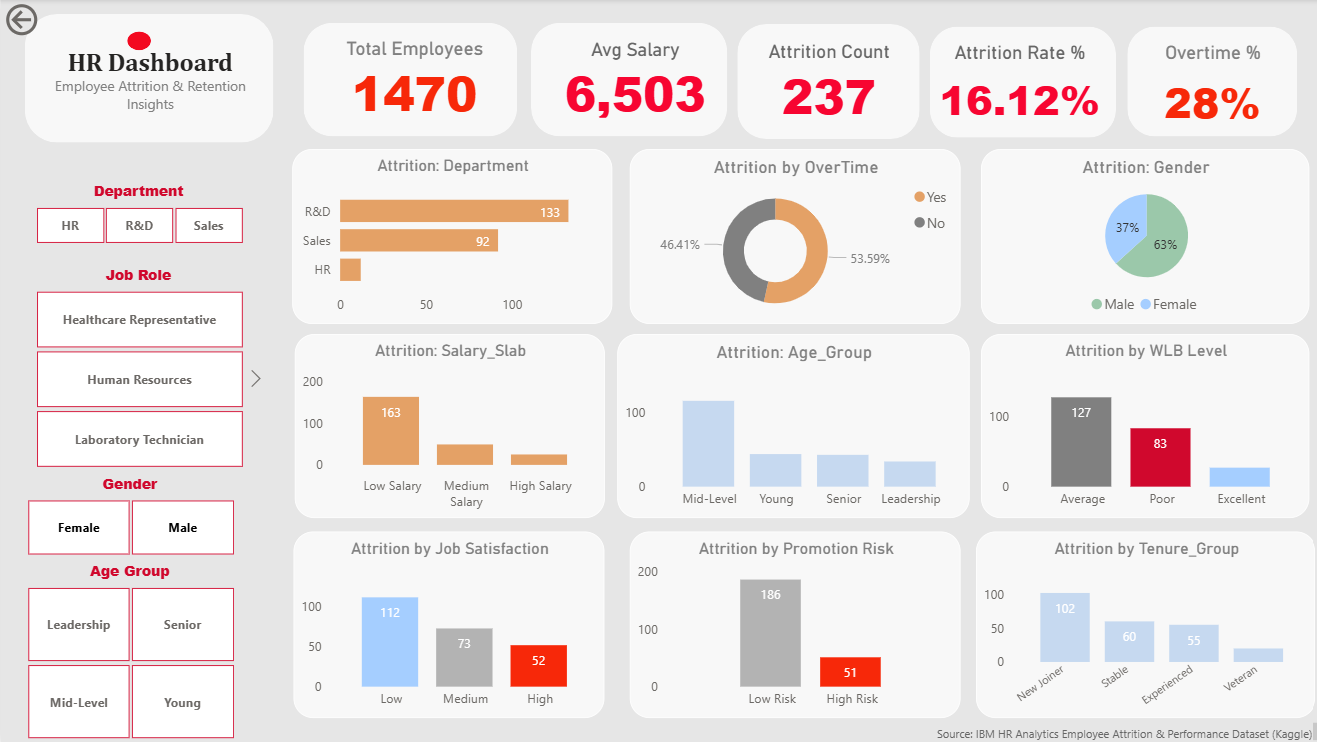

What the dashboard file says about the page in this screenshot:
{"tool":"powerbi","page":{"name":"Page 1","canvas":[1280,720],"ordinal":0},"visuals":[{"type":"shape","box":[22.9,14.5,240,124.2],"z":0},{"type":"shape","box":[121.8,31.4,22.9,18.1],"z":1000},{"type":"shape","box":[710.4,24.1,176.1,111],"z":2000},{"type":"shape","box":[896.1,26.5,179.7,107.3],"z":3000},{"type":"card","title":"Attrition Count","fields":{"Values":["HR_Analytics_Cleaned.Attrition Count"]},"box":[716.4,39.8,165.2,84.4],"z":4000},{"type":"card","title":"Attrition Rate %","fields":{"Values":["HR_Analytics_Cleaned.Attrition Rate %"]},"box":[896.1,41,173.7,91.7],"z":5000},{"type":"clusteredBarChart","title":"Attrition: Department","fields":{"Y":["HR_Analytics_Cleaned.Attrition Count"],"Category":["HR_Analytics_Cleaned.Department"]},"box":[281,144.7,308.7,168.8],"z":6000},{"type":"clusteredColumnChart","title":"Attrition: Salary_Slab","fields":{"Y":["HR_Analytics_Cleaned.Attrition Count"],"Category":["HR_Analytics_Cleaned.Salary_Slab"]},"box":[283.4,323.2,299.1,177.3],"z":7000},{"type":"donutChart","title":"Attrition by OverTime","fields":{"Category":["HR_Analytics_Cleaned.OverTime"],"Y":["HR_Analytics_Cleaned.Attrition Count"]},"box":[606.6,144.7,319.6,168.8],"z":8000},{"type":"clusteredColumnChart","title":"Attrition: Age_Group","fields":{"Y":["HR_Analytics_Cleaned.Attrition Count"],"Category":["HR_Analytics_Cleaned.Age_Group"]},"box":[594.6,323.2,340.1,177.3],"z":9000},{"type":"actionButton","box":[0,0,100,40],"z":10000},{"type":"pieChart","title":"Attrition: Gender","fields":{"Y":["HR_Analytics_Cleaned.Attrition Count"],"Category":["HR_Analytics_Cleaned.Gender"]},"box":[945.5,144.7,317.2,168.8],"z":11000},{"type":"columnChart","title":"Attrition by Promotion Risk","fields":{"Category":["HR_Analytics_Cleaned.Promotion_Risk"],"Y":["HR_Analytics_Cleaned.Attrition Count"]},"box":[606.6,513.8,319.6,179.7],"z":12000},{"type":"clusteredColumnChart","title":"Attrition by Job Satisfaction","fields":{"Y":["HR_Analytics_Cleaned.Attrition Count"],"Category":["HR_Analytics_Cleaned.Satisfaction_Level"]},"box":[282.2,513.8,300.3,179.7],"z":13000},{"type":"clusteredColumnChart","title":"Attrition by Tenure_Group","fields":{"Y":["HR_Analytics_Cleaned.Attrition Count"],"Category":["HR_Analytics_Cleaned.Tenure_Group"]},"box":[940.7,513.8,328,179.7],"z":14000},{"type":"slicer","title":"Department","fields":{"Values":["HR_Analytics_Cleaned.Department"]},"box":[8.4,176.1,248.4,66.3],"z":15000},{"type":"slicer","title":"Job Role","fields":{"Values":["HR_Analytics_Cleaned.JobRole"]},"box":[8.4,256.9,248.4,201.4],"z":16000},{"type":"slicer","title":"Gender","fields":{"Values":["HR_Analytics_Cleaned.Gender"]},"box":[0,458.3,248.4,84.4],"z":17000},{"type":"slicer","title":"Age Group","fields":{"Values":["HR_Analytics_Cleaned.Age_Group"]},"box":[0,542.7,248.4,177.3],"z":18000},{"type":"clusteredColumnChart","title":"Attrition by WLB Level","fields":{"Y":["HR_Analytics_Cleaned.Attrition Count"],"Category":["HR_Analytics_Cleaned.WLB Level"]},"box":[945.5,323.2,317.2,177.3],"z":19000},{"type":"shape","box":[511.4,22.9,189.3,109.7],"z":20000},{"type":"card","title":"Avg Salary","fields":{"Values":["HR_Analytics_Cleaned.Avg Salary"]},"box":[507.7,38.6,208.6,80.8],"z":21000},{"type":"shape","box":[1086.6,26.5,164,106.1],"z":22000},{"type":"card","title":"Overtime %","fields":{"Values":["HR_Analytics_Cleaned.Overtime %"]},"box":[1091.5,41,155.6,95.3],"z":23000},{"type":"textbox","box":[896.1,693.5,383.5,26.5],"z":24000},{"type":"textbox","box":[31.4,41,225.5,91.7],"z":25000},{"type":"shape","box":[291.9,22.9,206.2,109.7],"z":26000},{"type":"card","title":"Total Employees","fields":{"Values":["HR_Analytics_Cleaned.Total Employees"]},"box":[287,37.4,224.3,83.2],"z":27000}]}

Visuals, with their boxes in screenshot pixels (x1, y1, x2, y2), scaled from the page's 1280x720 canvas onto the 1317x742 screenshot:
shape: x1=24, y1=15, x2=270, y2=143
shape: x1=125, y1=32, x2=149, y2=51
shape: x1=731, y1=25, x2=912, y2=139
shape: x1=922, y1=27, x2=1107, y2=138
"Attrition Count" card: x1=737, y1=41, x2=907, y2=128
"Attrition Rate %" card: x1=922, y1=42, x2=1101, y2=137
"Attrition: Department" clusteredBarChart: x1=289, y1=149, x2=607, y2=323
"Attrition: Salary_Slab" clusteredColumnChart: x1=292, y1=333, x2=599, y2=516
"Attrition by OverTime" donutChart: x1=624, y1=149, x2=953, y2=323
"Attrition: Age_Group" clusteredColumnChart: x1=612, y1=333, x2=962, y2=516
actionButton: x1=0, y1=0, x2=103, y2=41
"Attrition: Gender" pieChart: x1=973, y1=149, x2=1299, y2=323
"Attrition by Promotion Risk" columnChart: x1=624, y1=529, x2=953, y2=715
"Attrition by Job Satisfaction" clusteredColumnChart: x1=290, y1=529, x2=599, y2=715
"Attrition by Tenure_Group" clusteredColumnChart: x1=968, y1=529, x2=1305, y2=715
"Department" slicer: x1=9, y1=181, x2=264, y2=250
"Job Role" slicer: x1=9, y1=265, x2=264, y2=472
"Gender" slicer: x1=0, y1=472, x2=256, y2=559
"Age Group" slicer: x1=0, y1=559, x2=256, y2=741
"Attrition by WLB Level" clusteredColumnChart: x1=973, y1=333, x2=1299, y2=516
shape: x1=526, y1=24, x2=721, y2=137
"Avg Salary" card: x1=522, y1=40, x2=737, y2=123
shape: x1=1118, y1=27, x2=1287, y2=137
"Overtime %" card: x1=1123, y1=42, x2=1283, y2=140
textbox: x1=922, y1=715, x2=1316, y2=741
textbox: x1=32, y1=42, x2=264, y2=137
shape: x1=300, y1=24, x2=512, y2=137
"Total Employees" card: x1=295, y1=39, x2=526, y2=124
